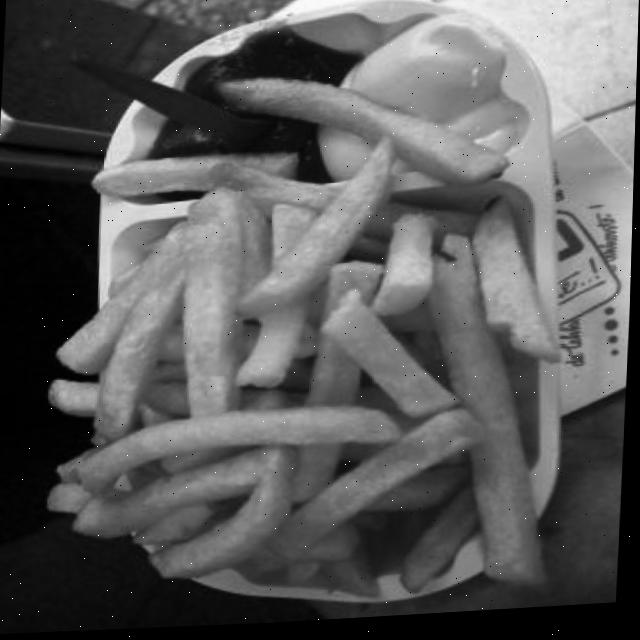炸货点心: (55, 146, 561, 627)
